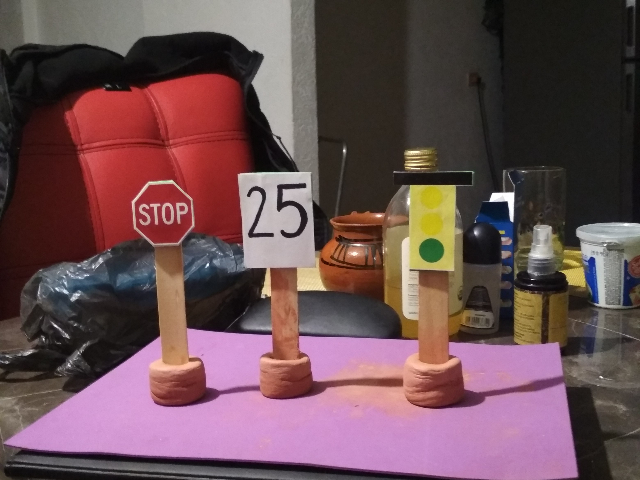Green: (384, 163, 480, 279)
Limit 25: (231, 166, 325, 273)
Stop: (127, 173, 200, 251)
